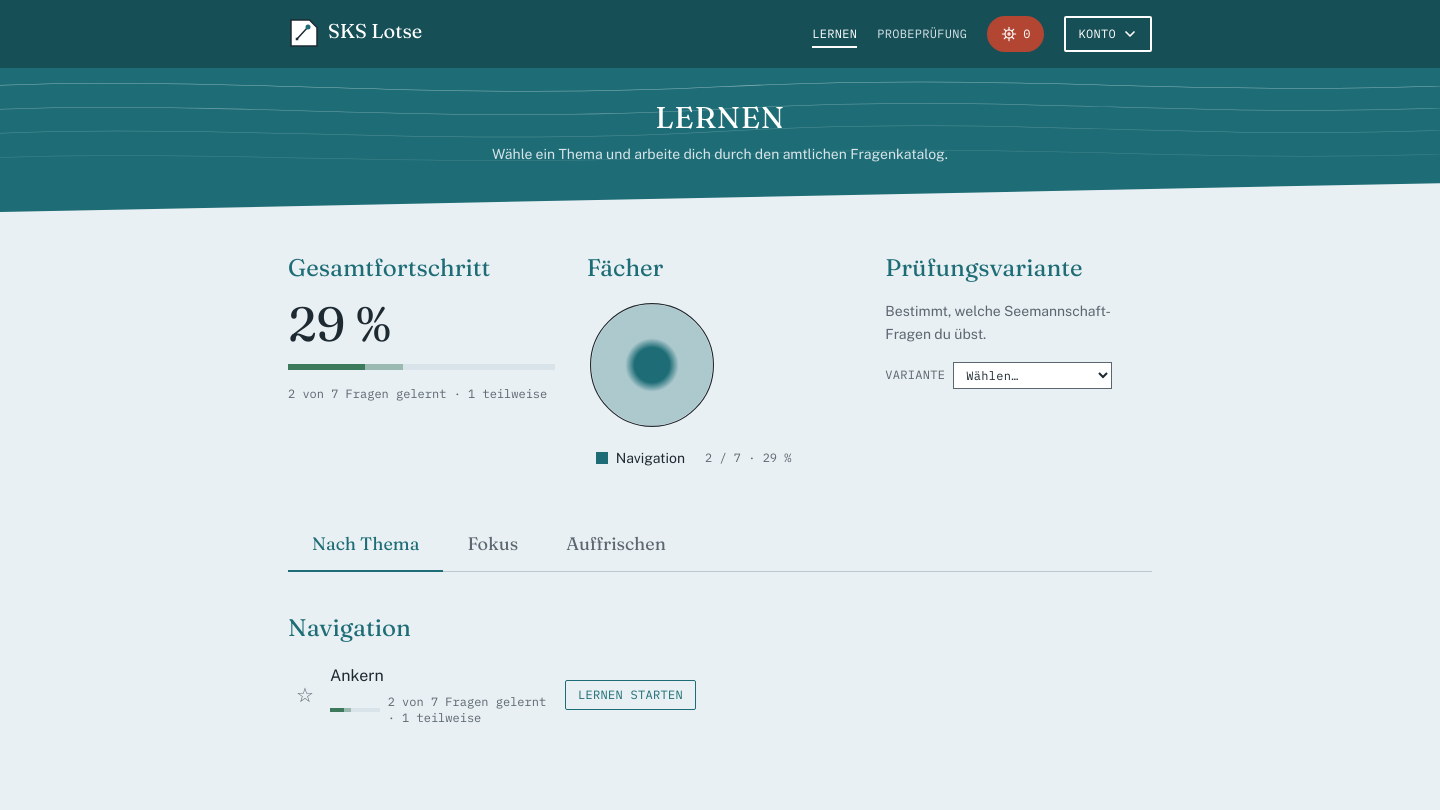
Test: LearnPage › shows an error message when the exam-variant update fails
Expected: the heading "Gesamtfortschritt" is shown, [288, 253, 490, 282]
Select "Motor" in the dropdown. click: (1033, 375)
box: [953, 362, 1112, 388]
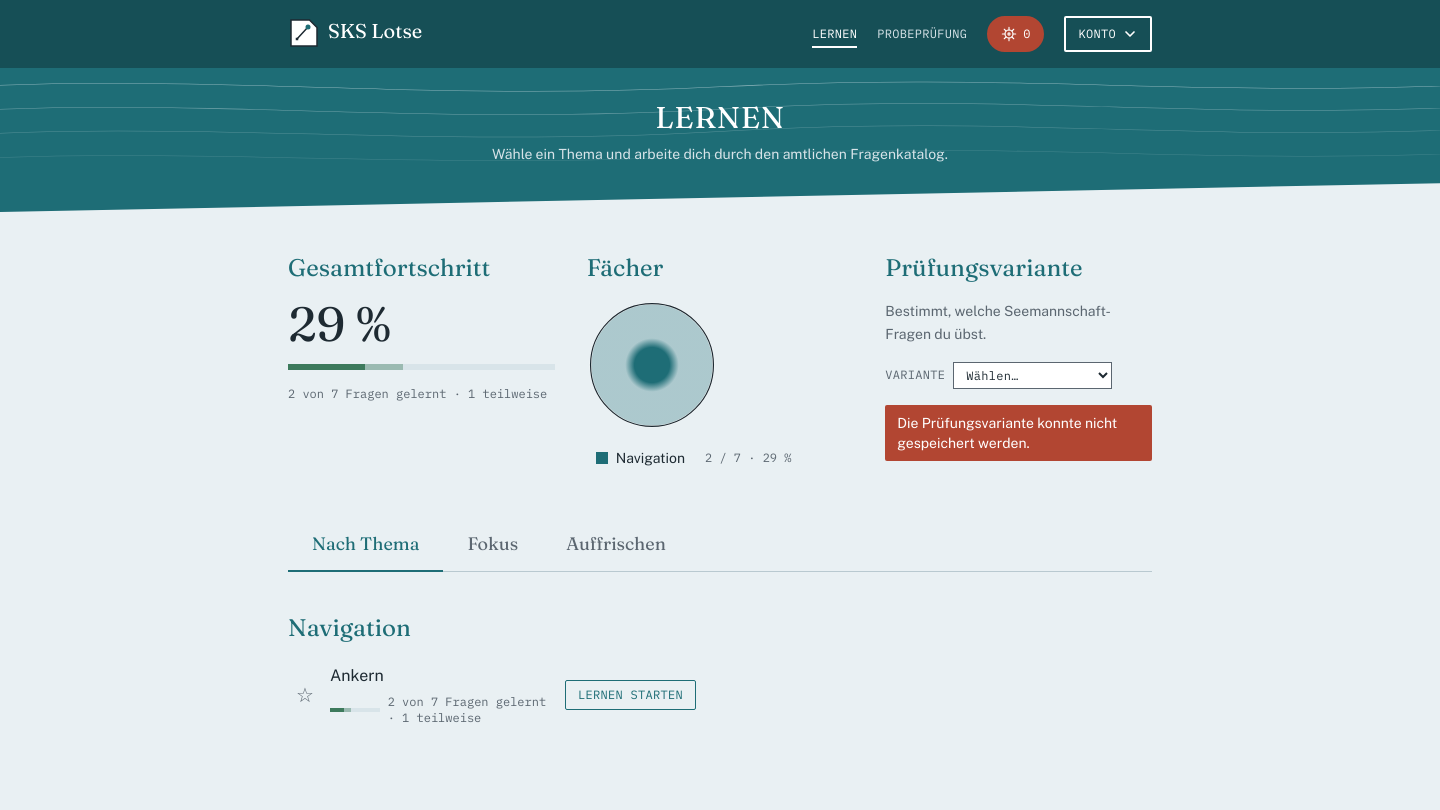
Expected: the text "Die Prüfungsvariante konnte nicht gespeichert werden." is shown, [897, 412, 1140, 452]
